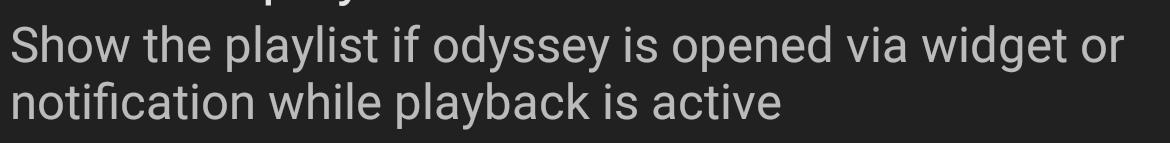TextView: (1, 1, 1169, 142)
